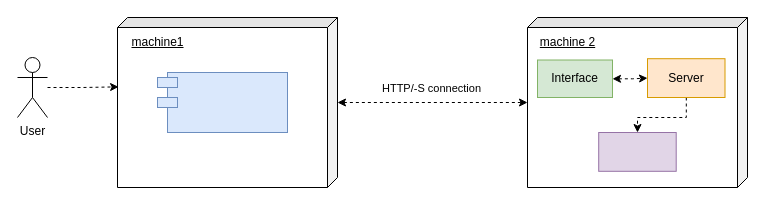
Image size: 765x205. Some labels were removed from this diagram. Here are the shapes that lost their labels. From the top down, the centre of each, then its label:
At point (227, 102): "Web client".
At point (637, 151): "File system".
